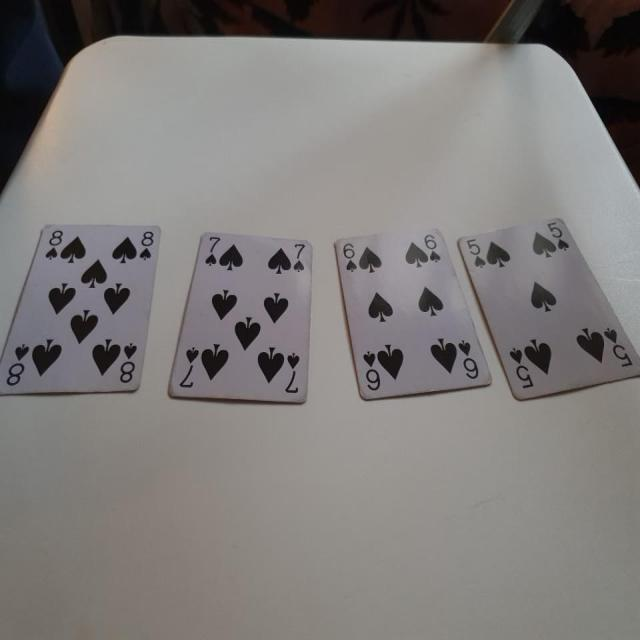5 of spades: (458, 206, 640, 412)
6 of spades: (338, 191, 497, 418)
7 of spades: (162, 216, 326, 406)
8 of spades: (1, 203, 160, 410)
